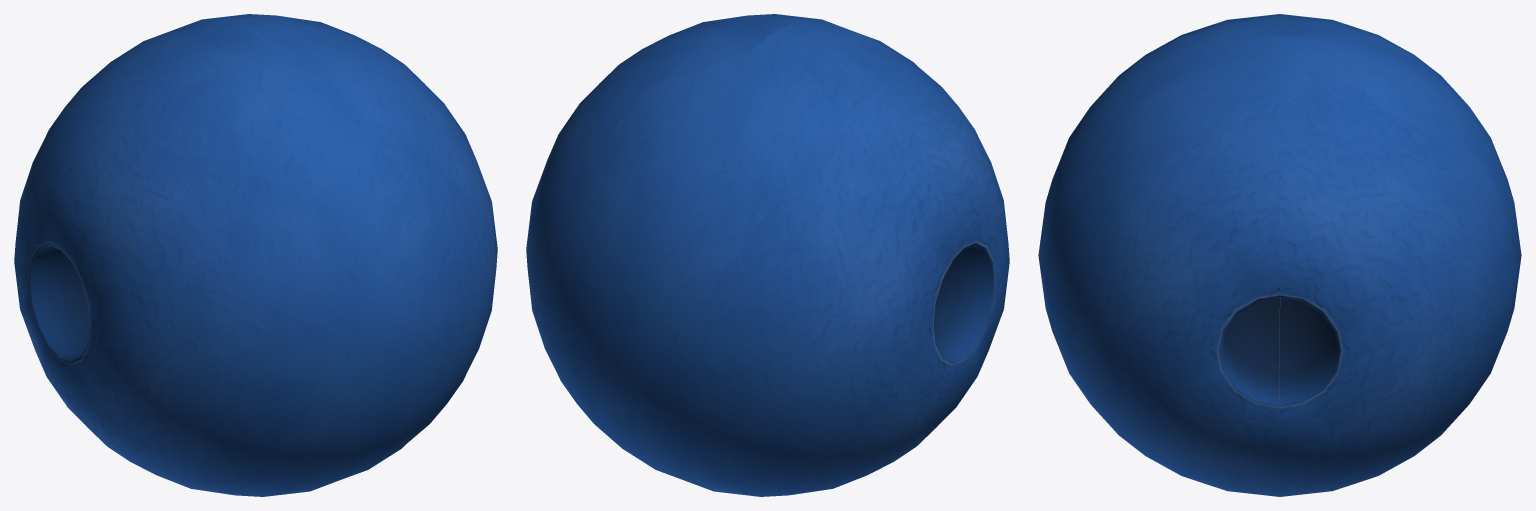
The model's file is kraal_Model_Blue.fbx.
The picture shows the model from 3 angles, left to right: view 1: azimuth 30°, elevation 25°; view 2: azimuth 150°, elevation 25°; view 3: azimuth 270°, elevation 25°; orthographic projection.
Visible parts, largest first — view 1: Sphere_1; view 2: Sphere_1; view 3: Sphere_1.
Part boxes in pixels (x1=…): Sphere_1: x1=14, y1=14, x2=497, y2=496; Sphere_1: x1=526, y1=14, x2=1009, y2=496; Sphere_1: x1=1038, y1=14, x2=1521, y2=496.
Size of the model in its own units: 187 by 200 by 200.
1 material, 1 textured.
